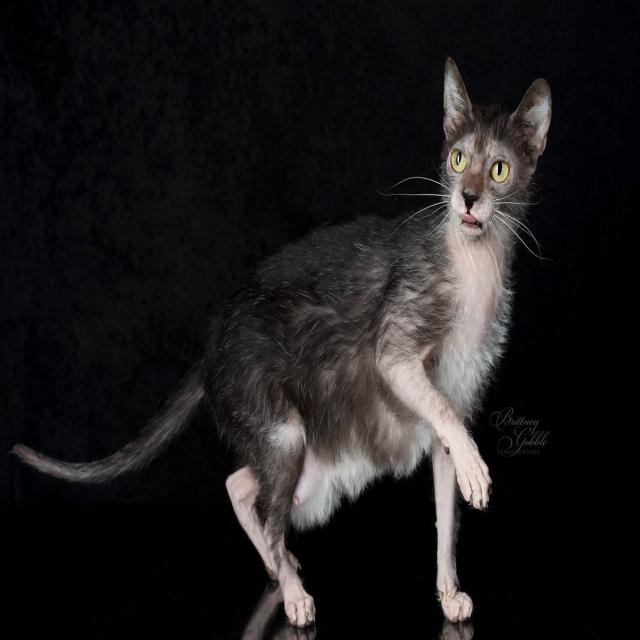Lykoi: (8, 52, 554, 635)
